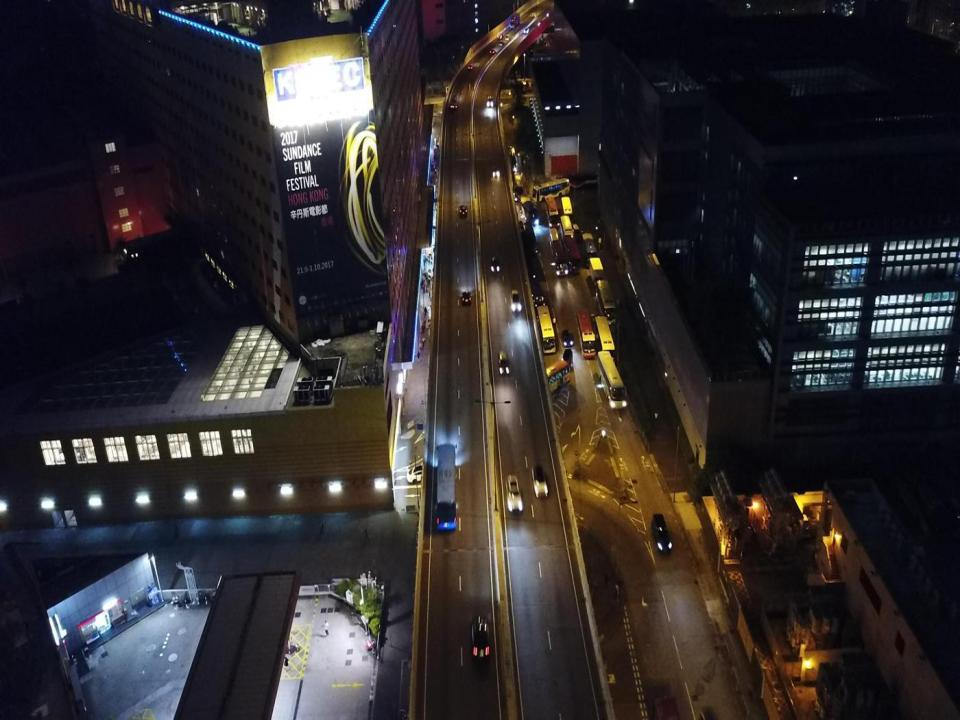bus: (434, 442, 456, 532), (596, 351, 627, 409), (528, 361, 570, 402), (594, 316, 616, 364), (577, 309, 596, 359), (531, 178, 570, 202), (596, 280, 616, 325), (537, 305, 555, 354), (558, 173, 597, 190), (552, 239, 568, 277), (564, 236, 580, 274), (530, 276, 545, 316), (582, 233, 597, 268), (520, 196, 537, 226), (545, 197, 559, 228), (560, 215, 574, 244), (561, 196, 572, 226), (512, 174, 523, 201), (548, 228, 559, 248), (509, 13, 520, 28)
car: (472, 614, 490, 660), (505, 474, 522, 514), (532, 465, 549, 496), (497, 351, 510, 376), (511, 290, 521, 314), (562, 349, 573, 366), (562, 330, 573, 346), (490, 253, 499, 272), (462, 291, 470, 305), (458, 206, 466, 218), (492, 166, 500, 176), (537, 20, 544, 26), (490, 49, 496, 54), (468, 64, 473, 69), (499, 41, 504, 46), (524, 28, 529, 33), (547, 12, 552, 16), (531, 13, 534, 17)
truck: (589, 257, 603, 287)
van: (652, 514, 672, 554), (450, 95, 458, 109), (572, 224, 579, 237), (487, 96, 493, 106), (505, 35, 510, 40), (498, 34, 502, 39)
